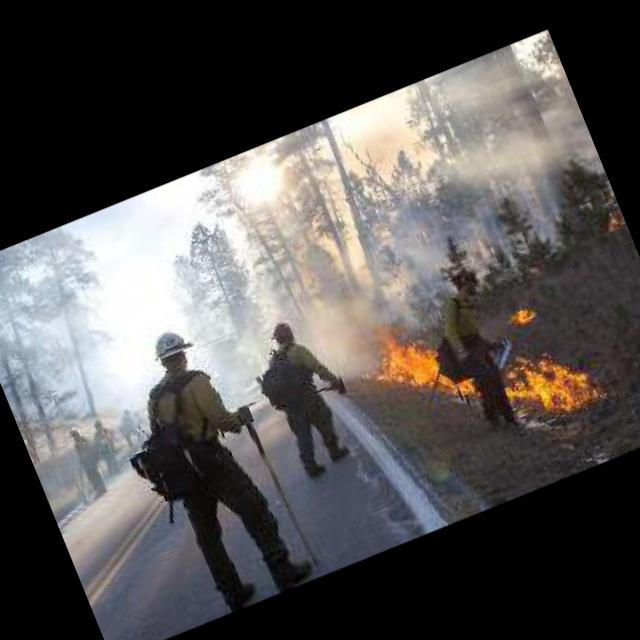fire: (354, 307, 478, 426), (496, 331, 596, 428), (600, 192, 626, 228), (511, 301, 536, 324)
